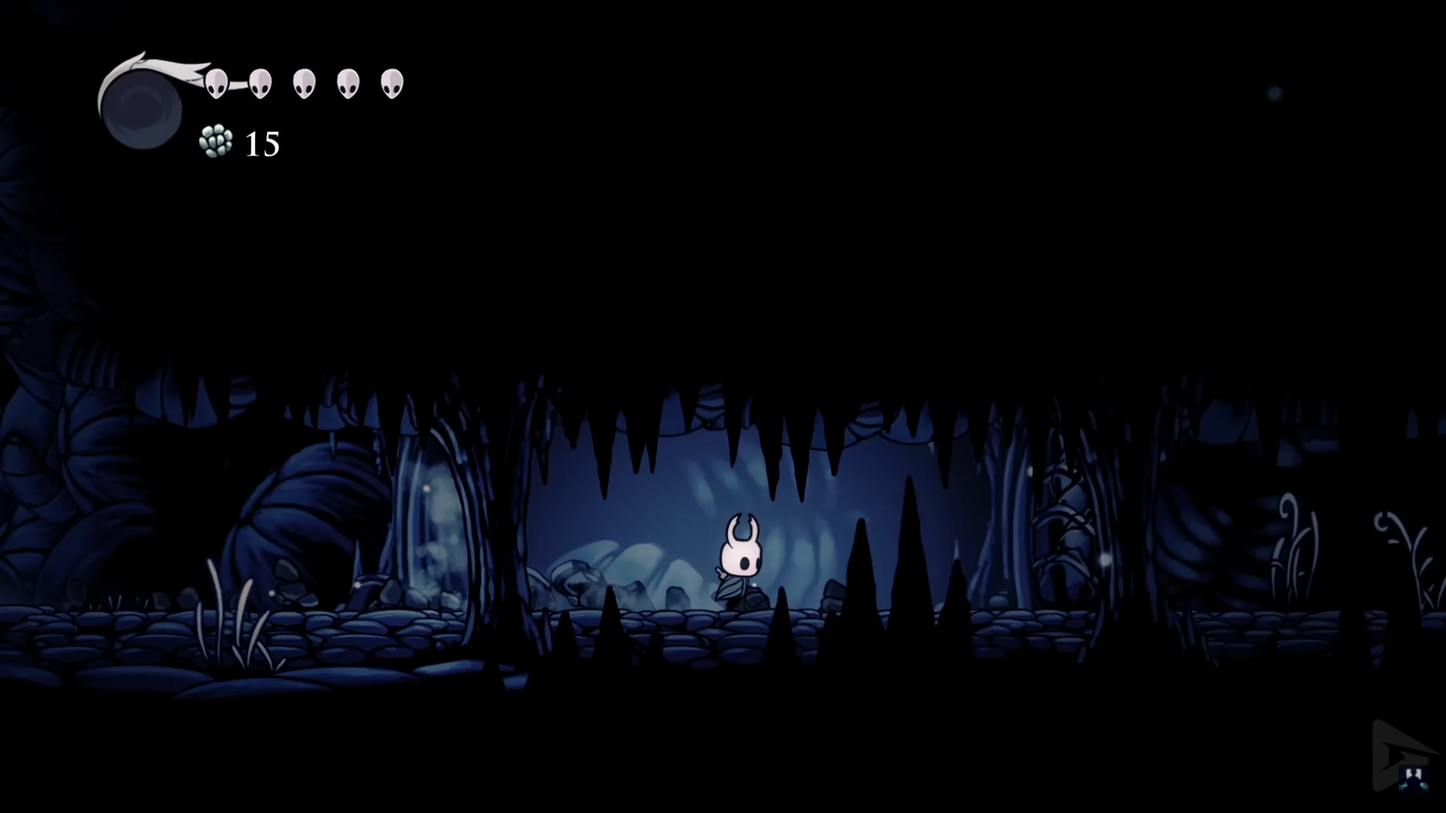HK: (712, 512, 768, 616)
